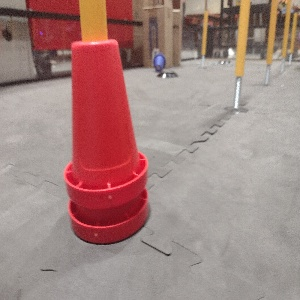Blue_1: (153, 53, 166, 71)
Red_2: (62, 37, 148, 245)
